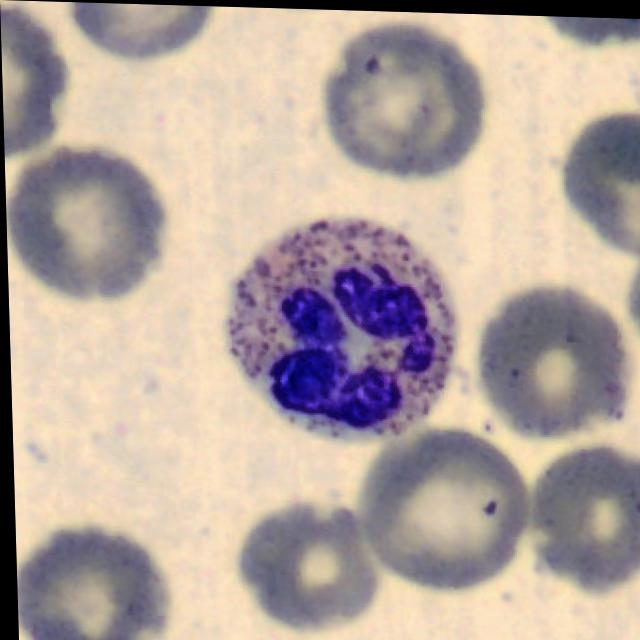Neutrofilo segmentado: (225, 215, 457, 440)
